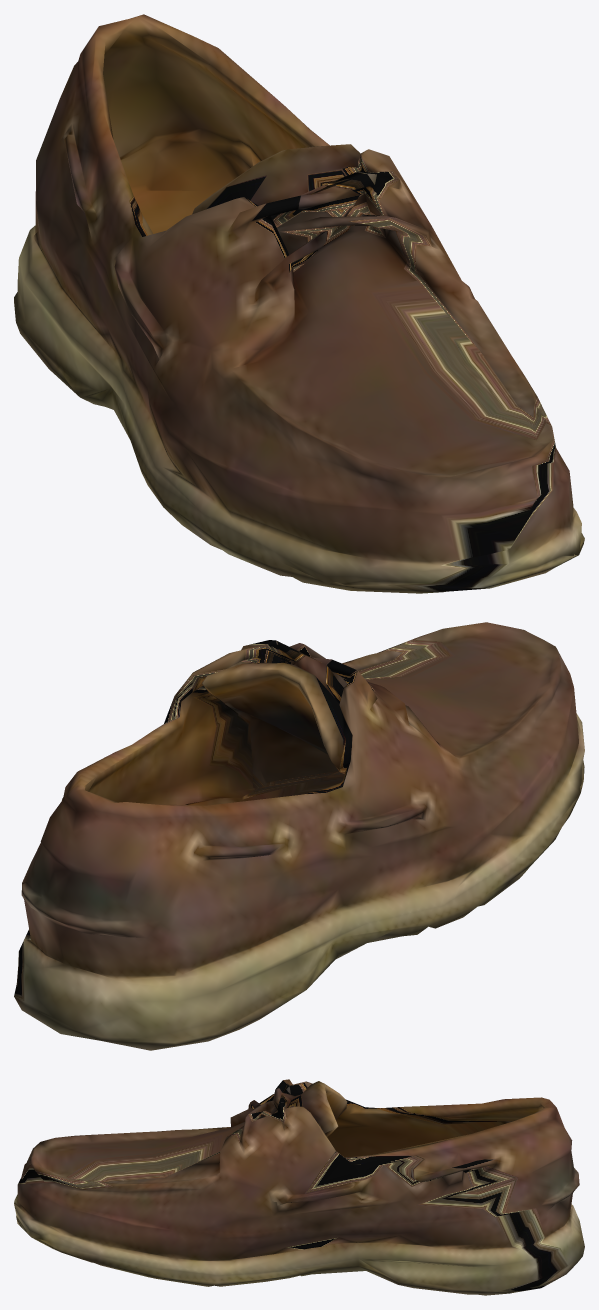
The model's file is gso_mens_gold_cup_asv_2eye_boat_shoe_in_cognac_leather.glb.
3 renders of one model, top to bottom at view 1: azimuth 30°, elevation 25°; view 2: azimuth 150°, elevation 25°; view 3: azimuth 270°, elevation 25°, orthographic. The views are drawn at different scales.
Visible parts, largest first — view 1: z-up-to-y-up; view 2: z-up-to-y-up; view 3: z-up-to-y-up.
Part boxes in pixels (x1,y1,x2,y2): z-up-to-y-up: [14, 14, 584, 593]; z-up-to-y-up: [14, 622, 584, 1050]; z-up-to-y-up: [14, 1079, 584, 1295].
Bounding box in the file's own units: 0.1107 × 0.099 × 0.2929.
Materials: 1 (1 with a texture image).
